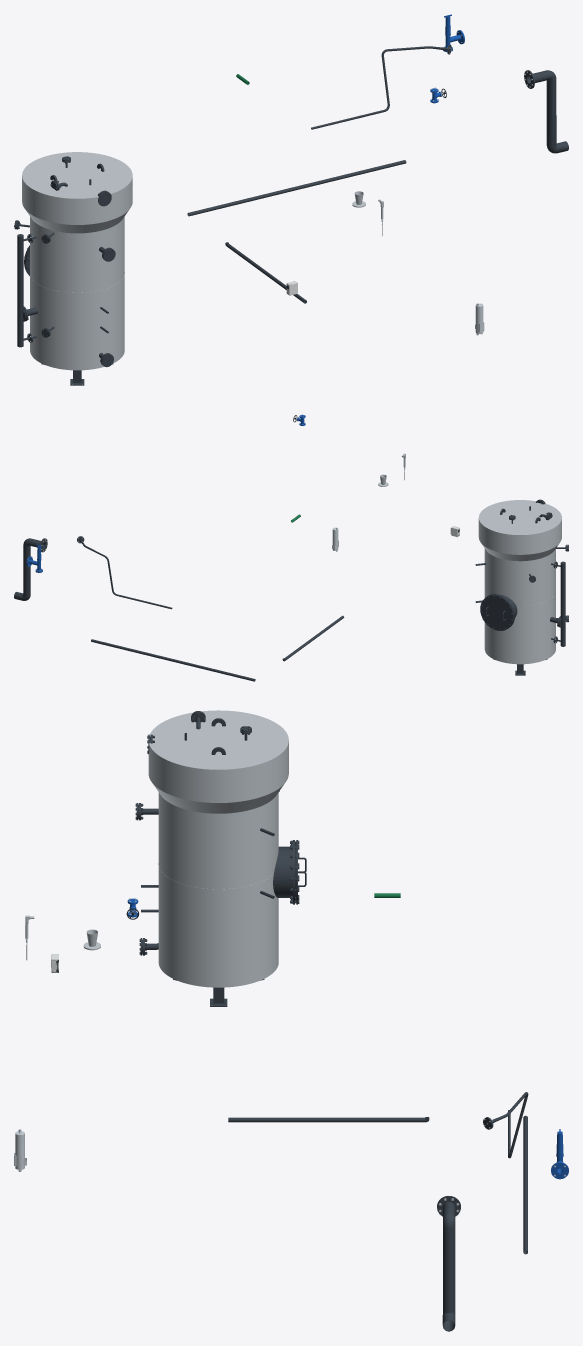
The model's file is s4000-1-mZtJb7Bz.glb.
3 renders of one model, top to bottom at view 1: azimuth 30°, elevation 25°; view 2: azimuth 150°, elevation 25°; view 3: azimuth 270°, elevation 25°, orthographic. The views are drawn at different scales.
Visible parts, largest first — view 1: deaerator / shell, bdv_water_drain / dark, bottom_discharge / dark, deaerator / dark, tds_without_fv / dark; view 2: deaerator / shell, DA3 CAD 76, bdv_water_drain / dark, deaerator / dark, bottom_discharge / dark; view 3: deaerator / shell, bdv_water_drain / dark, bottom_piping / dark, DA3 CAD 11.
Boxes of the visible parts, x1=… form: deaerator / shell: x1=22, y1=152, x2=132, y2=370; bdv_water_drain / dark: x1=524, y1=70, x2=568, y2=153; bottom_discharge / dark: x1=187, y1=160, x2=406, y2=216; deaerator / dark: x1=17, y1=234, x2=36, y2=347; tds_without_fv / dark: x1=311, y1=44, x2=451, y2=129; deaerator / shell: x1=478, y1=500, x2=561, y2=664; DA3 CAD 76: x1=480, y1=595, x2=513, y2=630; bdv_water_drain / dark: x1=14, y1=538, x2=47, y2=600; deaerator / dark: x1=551, y1=561, x2=565, y2=646; bottom_discharge / dark: x1=91, y1=639, x2=255, y2=681; deaerator / shell: x1=148, y1=710, x2=288, y2=987; bdv_water_drain / dark: x1=437, y1=1196, x2=460, y2=1331; bottom_piping / dark: x1=228, y1=1117, x2=429, y2=1122; DA3 CAD 11: x1=273, y1=846, x2=292, y2=897.
Bounding box in the file's own units: 8.55 × 2.89 × 5.06.
